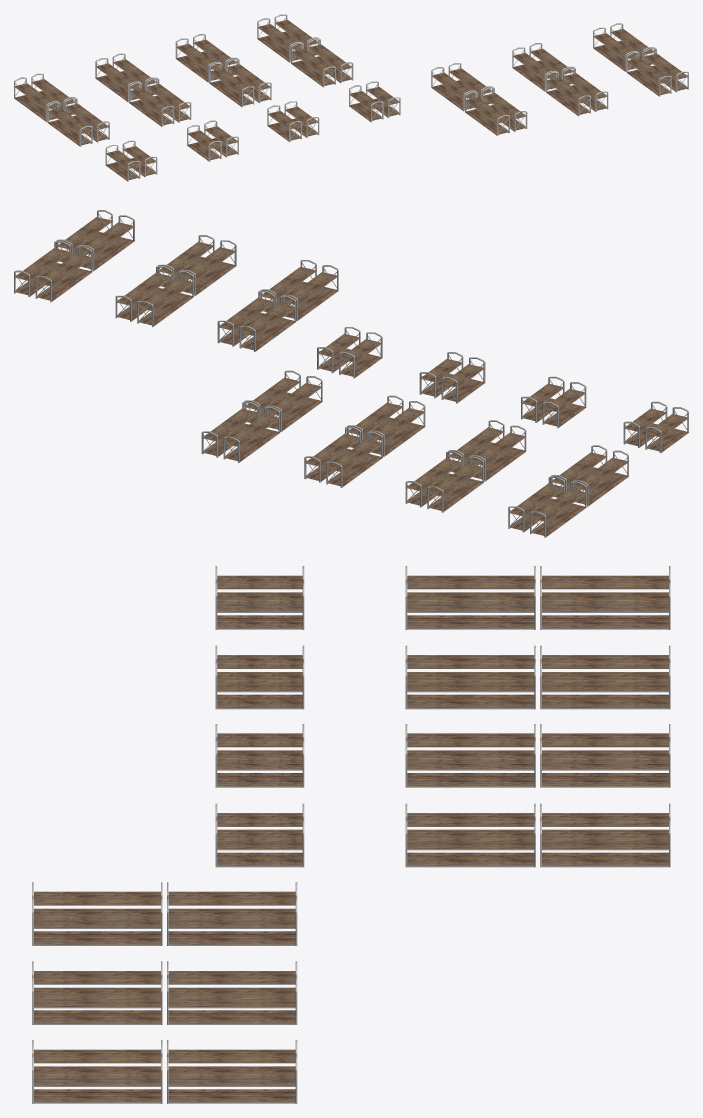
The model's file is regale.fbx.
3 views of the same model, one above another, from view 1: azimuth 30°, elevation 25°; view 2: azimuth 150°, elevation 25°; view 3: azimuth 270°, elevation 25° (orthographic). The views are drawn at different scales.
Parts seen in each view (by area): view 1: Mesh_ncl1_1, Mesh_ncl1_2, Mesh; view 2: Mesh_ncl1_1, Mesh_ncl1_2, Mesh; view 3: Mesh_ncl1_1, Mesh_ncl1_2, Mesh.
Boxes of the visible parts, box(x1,y1,x2,y2) form: Mesh_ncl1_1: box(14, 14, 353, 146); Mesh_ncl1_2: box(431, 23, 688, 136); Mesh: box(105, 81, 400, 181); Mesh_ncl1_1: box(201, 370, 628, 537); Mesh_ncl1_2: box(14, 210, 338, 351); Mesh: box(317, 327, 688, 453); Mesh_ncl1_1: box(405, 566, 670, 867); Mesh_ncl1_2: box(32, 882, 297, 1103); Mesh: box(215, 566, 304, 867).
Bounding box in the file's own units: 9247 × 327 × 4953.
